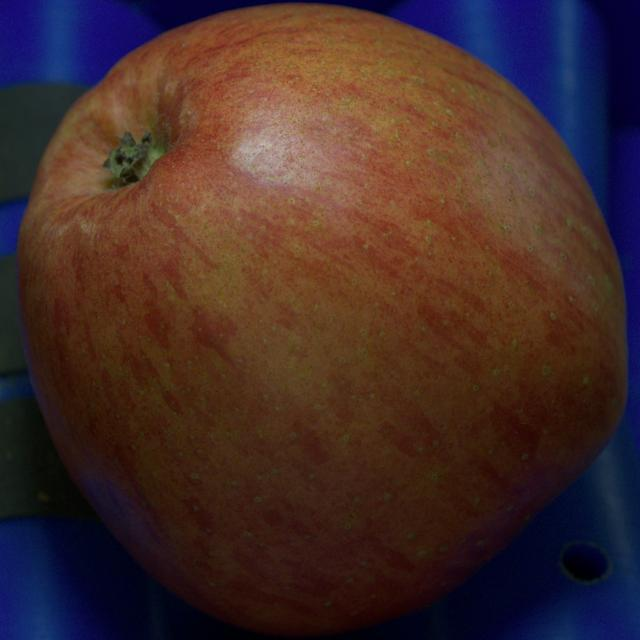apple: (16, 4, 627, 636)
